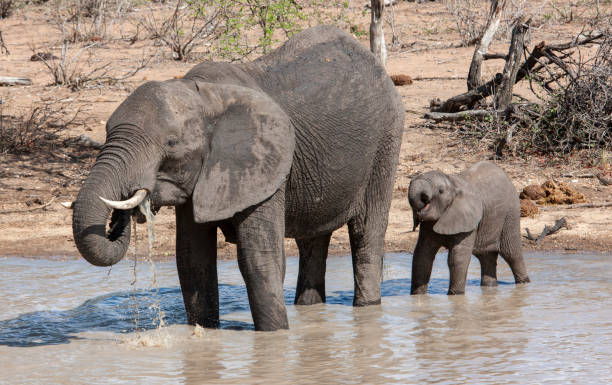africanelephant: (58, 77, 289, 275)
